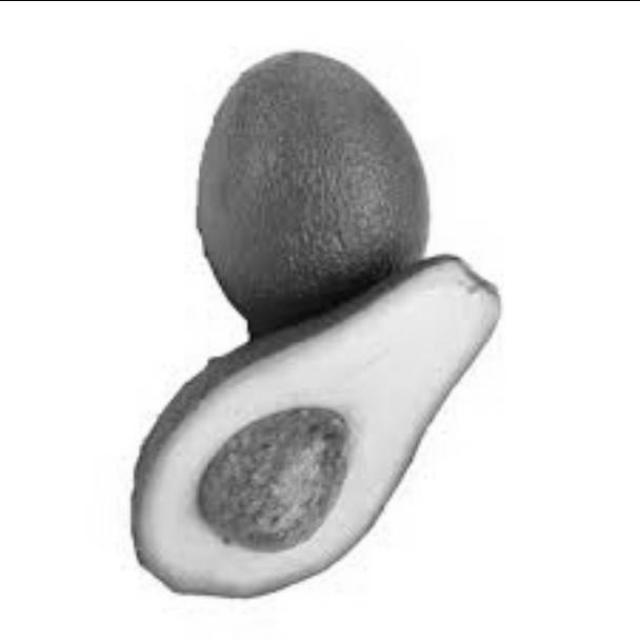avocado: (104, 247, 515, 637), (174, 40, 462, 316)
